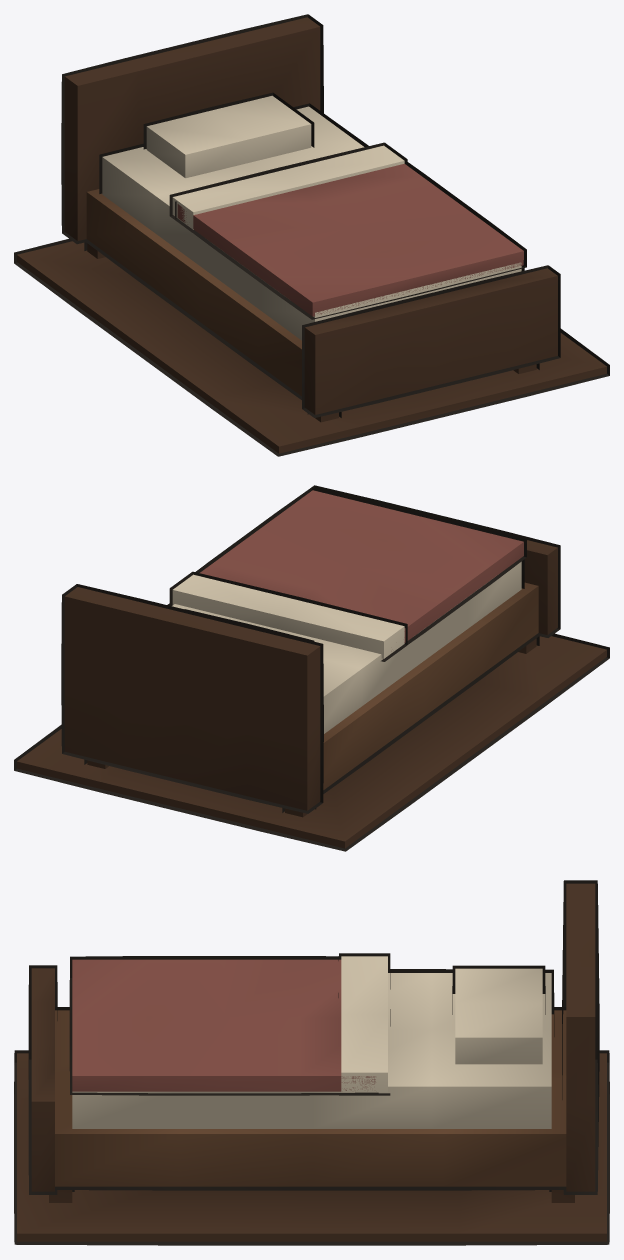
The model's file is lit.glb.
3 renders of one model, top to bottom at view 1: azimuth 30°, elevation 25°; view 2: azimuth 150°, elevation 25°; view 3: azimuth 270°, elevation 25°, orthographic. The views are drawn at different scales.
Parts seen in each view (by area): view 1: lit, lit_outline; view 2: lit, lit_outline; view 3: lit, lit_outline.
Part boxes in pixels (x1=…): lit: x1=17, y1=17, x2=606, y2=453; lit_outline: x1=14, y1=14, x2=609, y2=456; lit: x1=17, y1=490, x2=606, y2=848; lit_outline: x1=14, y1=485, x2=609, y2=851; lit: x1=17, y1=883, x2=606, y2=1241; lit_outline: x1=14, y1=880, x2=609, y2=1245.
Size of the model in its own units: 1.48 by 0.7839 by 2.04.
